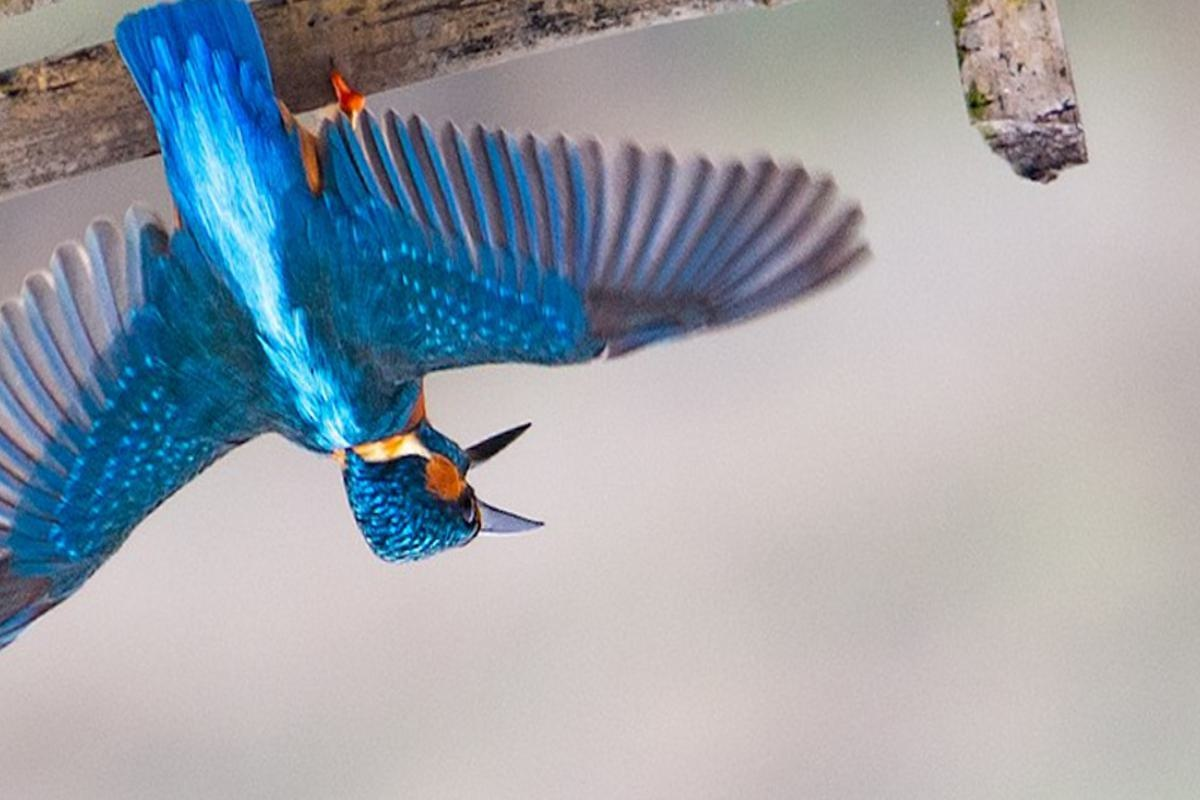kingfisher: (1, 7, 868, 658)
